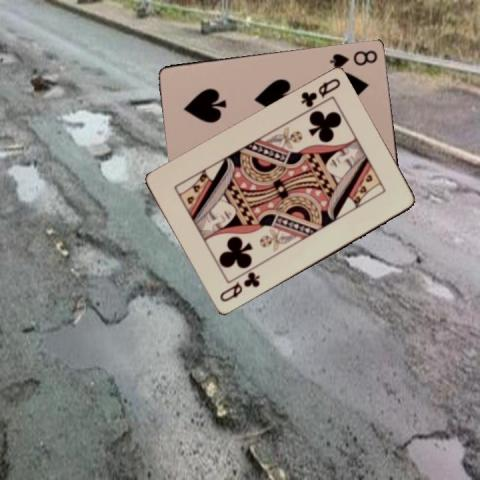8s: (326, 46, 378, 68)
Qc: (216, 270, 261, 304), (297, 76, 342, 110)
